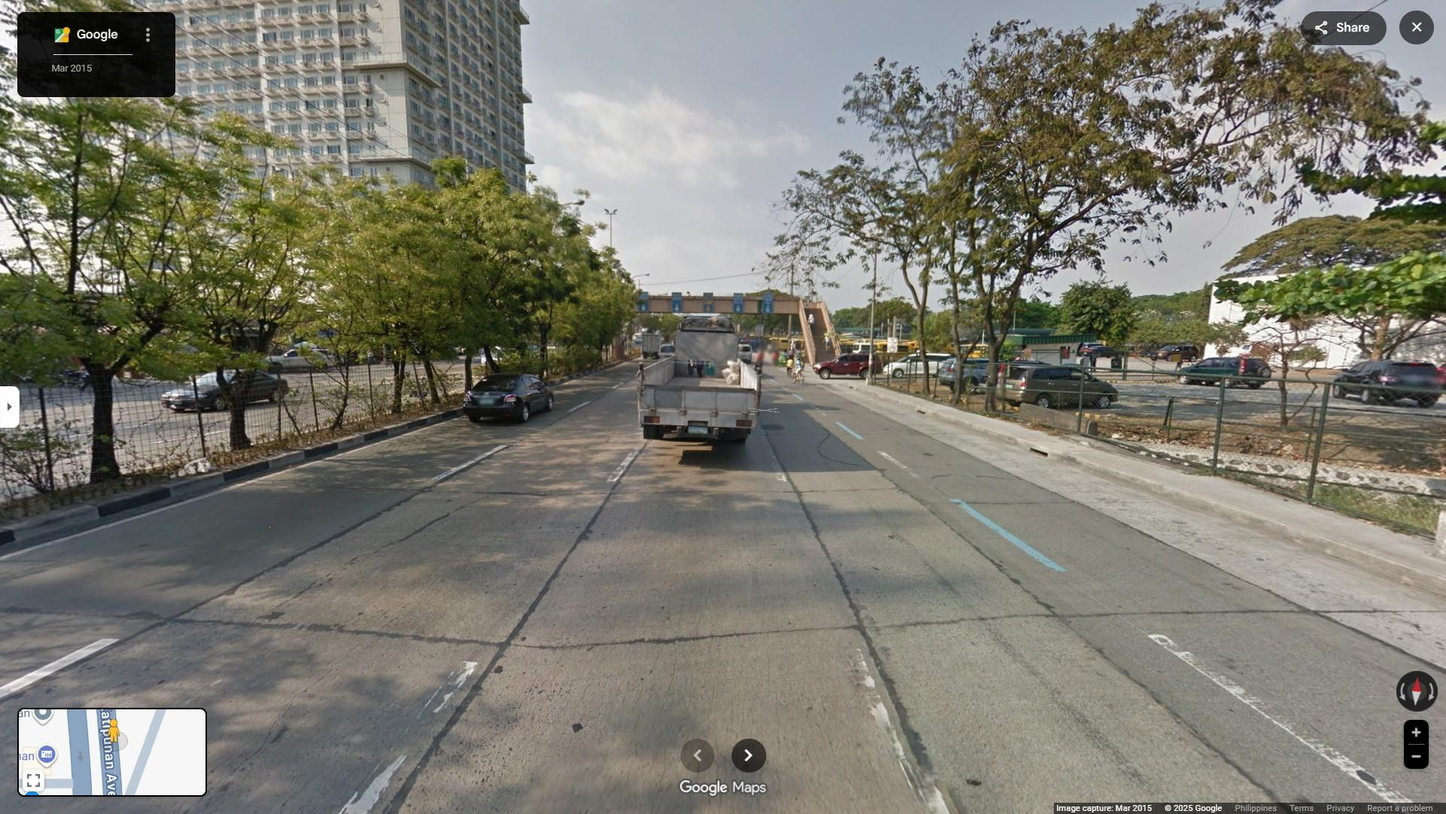cyclist: (790, 357, 806, 386), (786, 356, 793, 378)
pedestrian: (1089, 349, 1098, 372), (1174, 351, 1183, 372), (822, 333, 830, 351), (808, 314, 814, 330), (685, 290, 691, 306), (791, 347, 796, 361), (796, 348, 800, 362)
